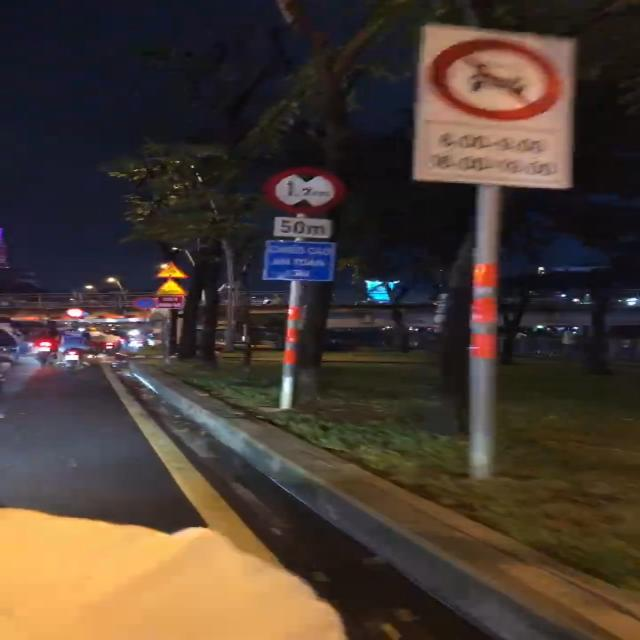Bien bao han che chieu cao: (249, 161, 358, 218)
